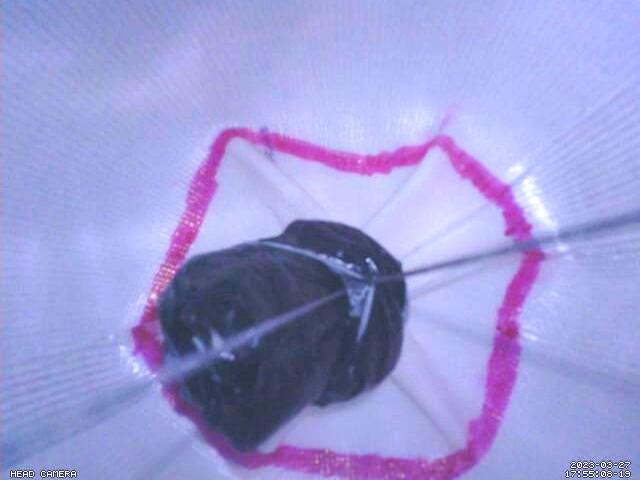red-circle: (131, 127, 546, 480)
